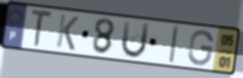8: (91, 17, 116, 56)
G: (186, 29, 215, 68)
I: (168, 25, 181, 66)
K: (54, 12, 81, 52)
T: (29, 8, 54, 49)
U: (119, 19, 151, 60)
